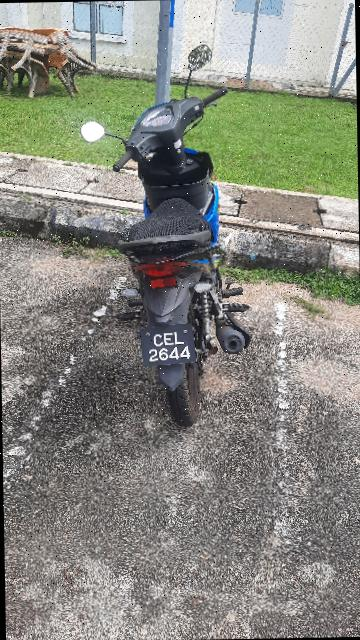License_Plate: (138, 321, 206, 373)
motorcycle: (79, 44, 259, 430)
